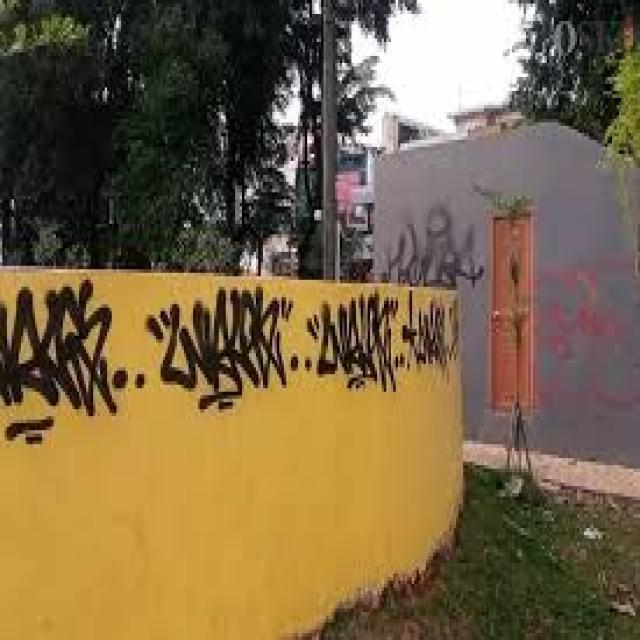-: (1, 283, 462, 446), (537, 250, 640, 428), (384, 205, 484, 288)
